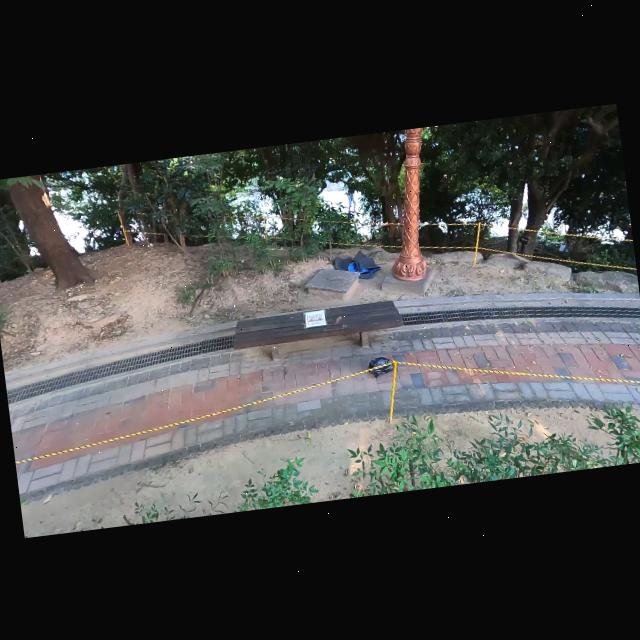trash: (331, 242, 385, 282), (368, 354, 396, 378)
